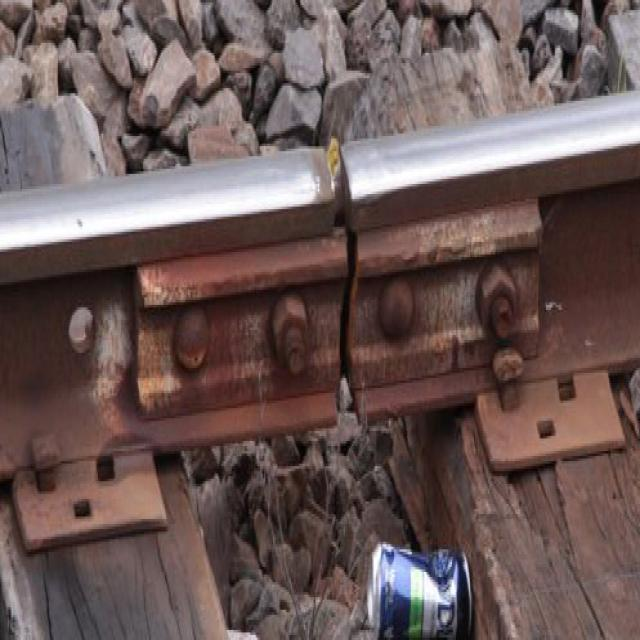railway_join_bar_defects_high: (314, 140, 380, 434)
